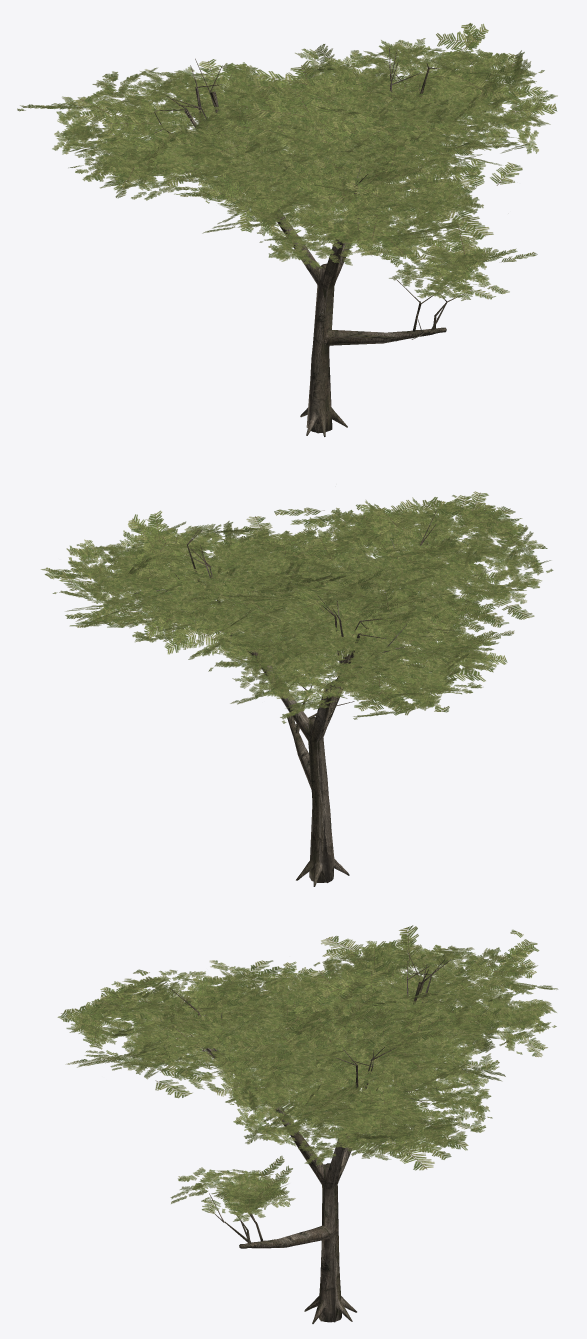
Rendered from acacia-37.glb.
3 renders of one model, top to bottom at view 1: azimuth 30°, elevation 25°; view 2: azimuth 150°, elevation 25°; view 3: azimuth 270°, elevation 25°, orthographic. The views are drawn at different scales.
Parts seen in each view (by area): view 1: leaves, leaves_far, bark, bark_far; view 2: leaves, leaves_far, bark, bark_far; view 3: leaves, leaves_far, bark, bark_far.
Part boxes in pixels (bbox=[...]): leaves: bbox=[52, 38, 557, 300]; leaves_far: bbox=[17, 23, 557, 294]; bark: bbox=[154, 48, 471, 436]; bark_far: bbox=[155, 68, 447, 433]; leaves: bbox=[52, 495, 553, 723]; leaves_far: bbox=[41, 491, 547, 715]; bark: bbox=[134, 509, 437, 886]; bark_far: bbox=[187, 542, 422, 882]; leaves: bbox=[69, 936, 557, 1221]; leaves_far: bbox=[57, 925, 539, 1216]; bark: bbox=[169, 950, 451, 1323]; bark_far: bbox=[180, 958, 445, 1322].
Bounding box in the file's own units: 10.75 × 7.25 × 11.15.
Materials: 2 (2 with a texture image).
